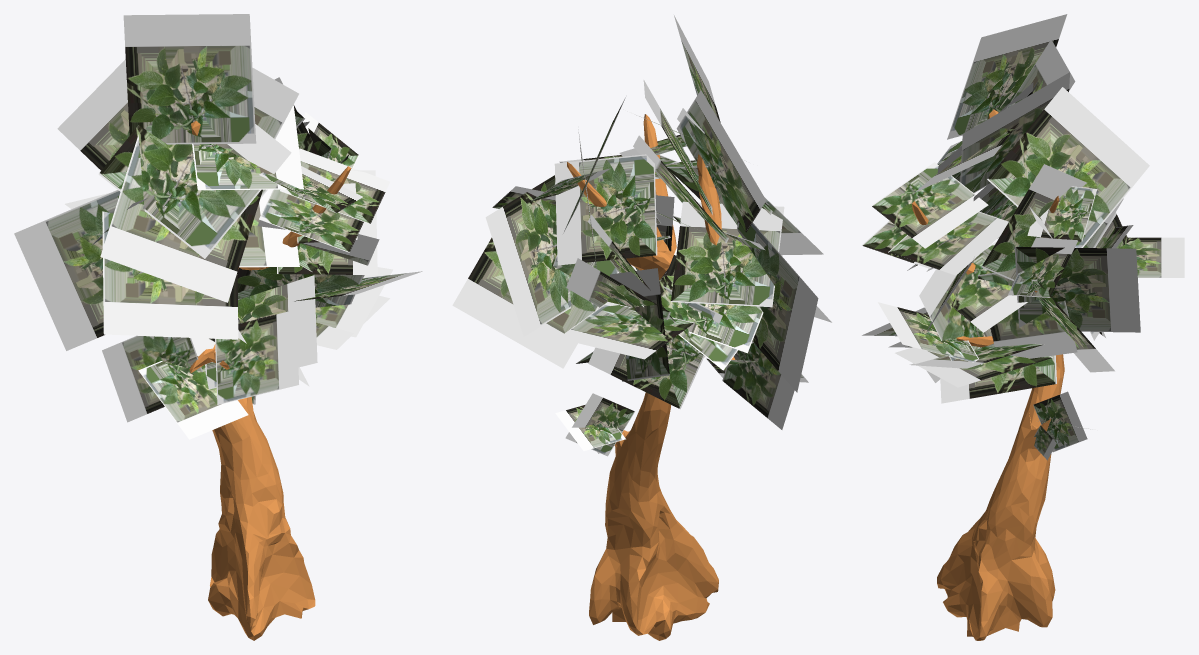
File: Tree2.1.fbx
3 renders of one model, left to right at view 1: azimuth 30°, elevation 25°; view 2: azimuth 150°, elevation 25°; view 3: azimuth 270°, elevation 25°, orthographic. The views are drawn at different scales.
Visible parts, largest first — view 1: Plane.001, Cube; view 2: Plane.001, Cube, Plane; view 3: Plane.001, Cube, Plane.
Boxes of the visible parts, <box> form: Plane.001: <box>14,14,422,439</box>; Cube: <box>189,120,351,640</box>; Plane.001: <box>452,15,831,456</box>; Cube: <box>567,114,735,640</box>; Plane: <box>558,302,693,359</box>; Plane.001: <box>862,14,1149,460</box>; Cube: <box>912,109,1064,640</box>; Plane: <box>1119,237,1184,277</box>.
Size of the model in its own units: 1460 by 2502 by 1261.
Materials: 2 (1 with a texture image).
